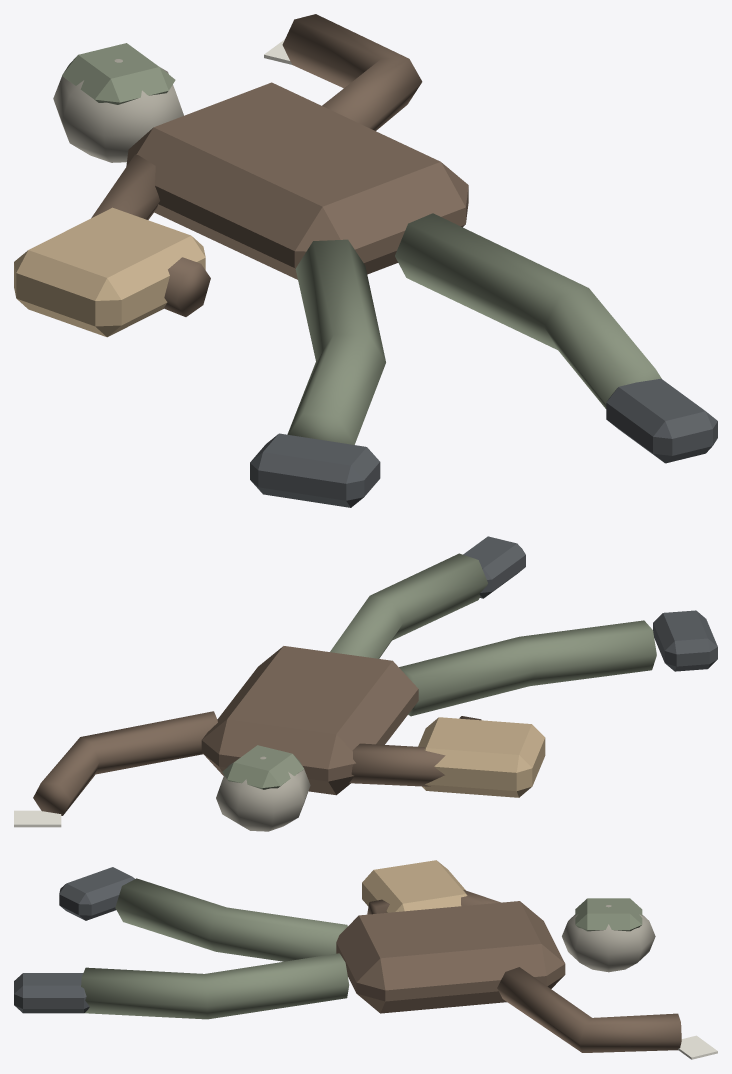
Rendered from an_body.glb.
3 renders of one model, top to bottom at view 1: azimuth 30°, elevation 25°; view 2: azimuth 150°, elevation 25°; view 3: azimuth 270°, elevation 25°, orthographic. The views are drawn at different scales.
Visible parts, largest first — view 1: an_body; view 2: an_body; view 3: an_body.
Boxes of the visible parts, <box> form: an_body: <box>14,14,717,507</box>; an_body: <box>14,536,717,831</box>; an_body: <box>14,860,717,1059</box>.
Size of the model in its own units: 1.3 by 0.2374 by 2.31.
